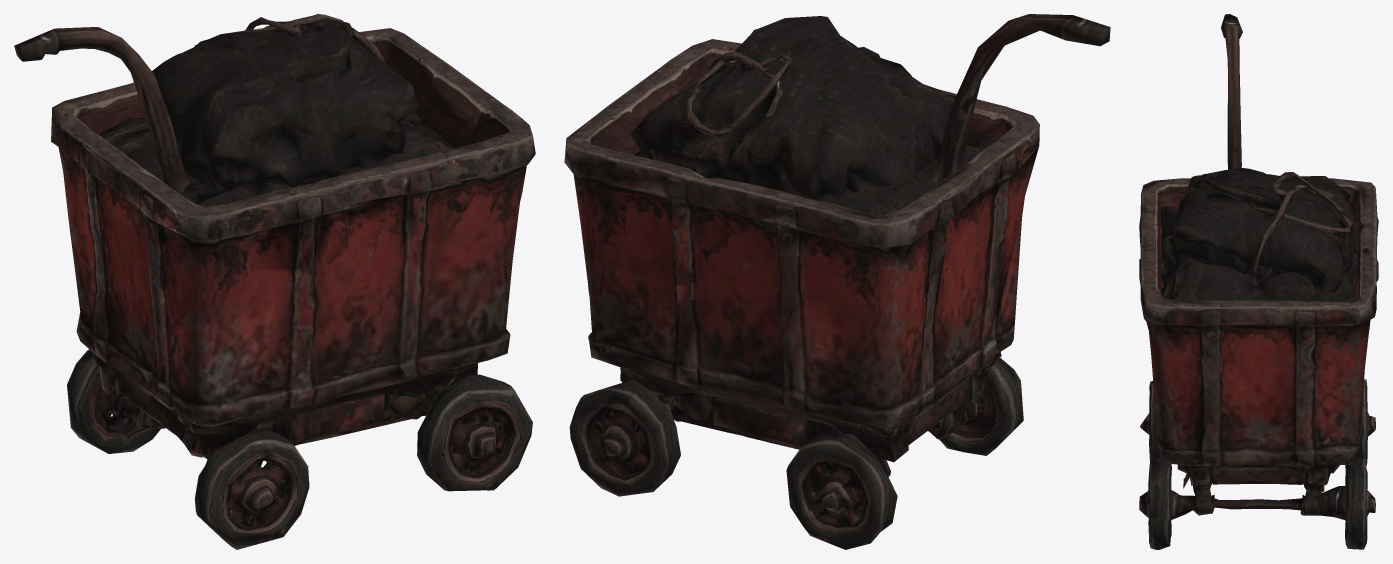
Rendered from cart.glb.
3 views of the same model, side by side, from view 1: azimuth 30°, elevation 25°; view 2: azimuth 150°, elevation 25°; view 3: azimuth 270°, elevation 25° (orthographic). The views are drawn at different scales.
Size of the model in its own units: 181 by 188 by 106.
1 material, 1 textured.
